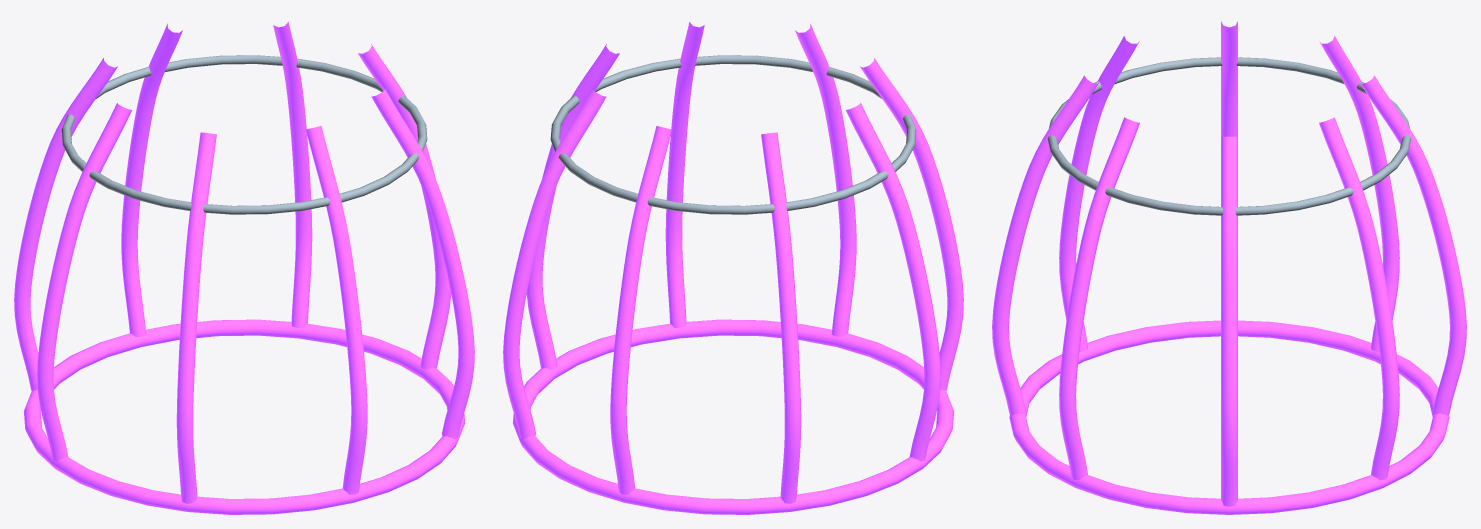
File: moonsteel-convergence-binding-cage-27ed021e__18218.glb
3 renders of one model, left to right at view 1: azimuth 30°, elevation 25°; view 2: azimuth 150°, elevation 25°; view 3: azimuth 270°, elevation 25°, orthographic.
Visible parts, largest first — view 1: binding-cage; view 2: binding-cage; view 3: binding-cage.
Part boxes in pixels (x1=…): binding-cage: x1=14, y1=21, x2=474, y2=514; binding-cage: x1=503, y1=21, x2=963, y2=514; binding-cage: x1=992, y1=21, x2=1466, y2=514.
Size of the model in its own units: 2.24 by 1.82 by 2.24.
